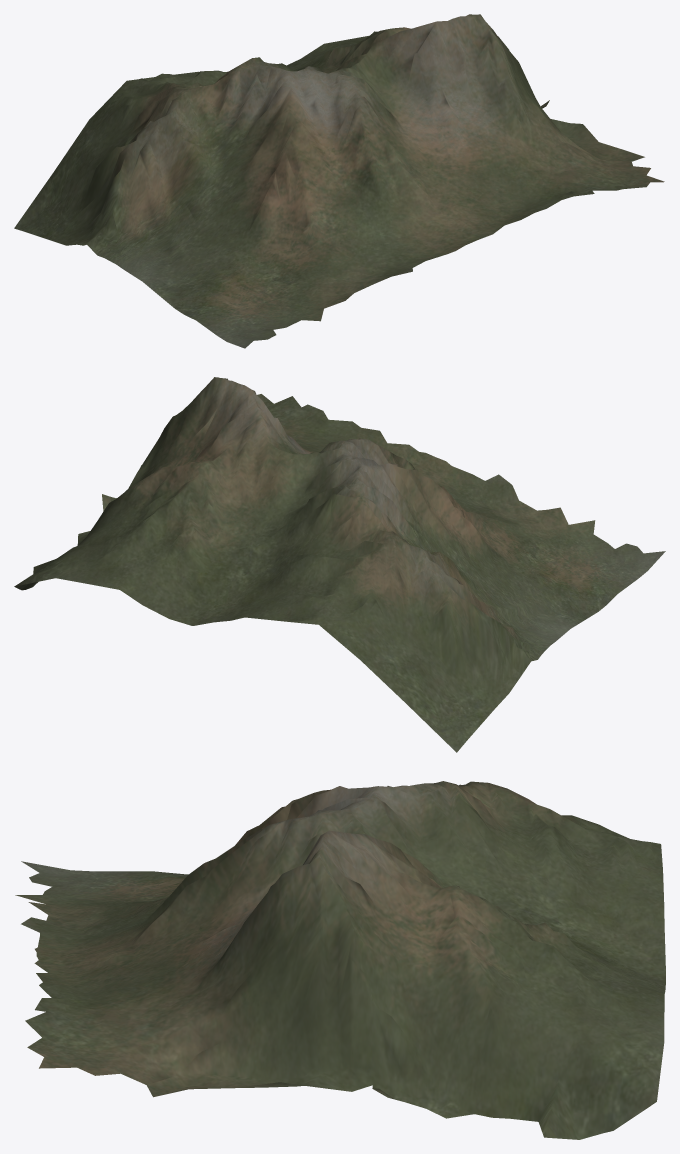
The model's file is mountain_01.FBX.
The picture shows the model from 3 angles, top to bottom: view 1: azimuth 30°, elevation 25°; view 2: azimuth 150°, elevation 25°; view 3: azimuth 270°, elevation 25°; orthographic projection. The views are drawn at different scales.
Parts seen in each view (by area): view 1: 对象001; view 2: 对象001; view 3: 对象001.
Boxes of the visible parts, bbox=[...] form: 对象001: bbox=[14, 14, 664, 348]; 对象001: bbox=[14, 377, 665, 752]; 对象001: bbox=[15, 781, 665, 1139].
Bounding box in the file's own units: 666 × 292 × 597.
